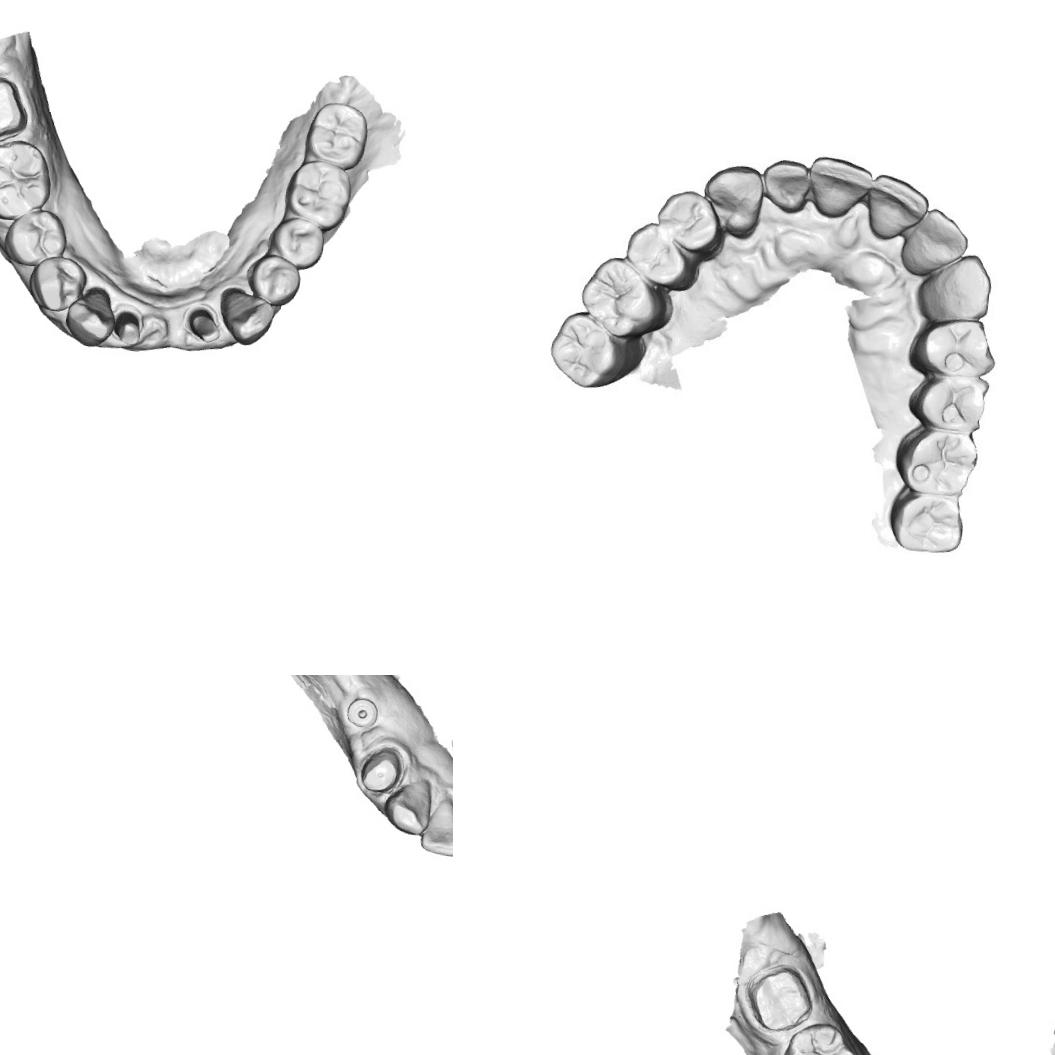abutment: (180, 302, 223, 344), (110, 307, 144, 346)
canine: (910, 246, 996, 327), (702, 162, 766, 246), (214, 284, 276, 347), (62, 284, 119, 348), (380, 774, 434, 838)
crown: (740, 958, 818, 1040), (355, 742, 406, 797), (0, 71, 32, 148)
implant: (340, 693, 382, 730)
incisor: (804, 152, 878, 229), (895, 209, 966, 281), (865, 172, 927, 242), (755, 155, 818, 218), (416, 793, 453, 858)
molar: (544, 304, 656, 400), (576, 251, 678, 342), (886, 421, 980, 496), (884, 478, 972, 556), (281, 156, 353, 232), (300, 98, 370, 173), (0, 135, 54, 223), (776, 1016, 864, 1055)
premolar: (645, 184, 730, 269), (620, 216, 706, 300), (903, 310, 1000, 382), (903, 370, 995, 433), (0, 204, 69, 269), (24, 252, 88, 314), (266, 213, 326, 272), (244, 250, 302, 309)
